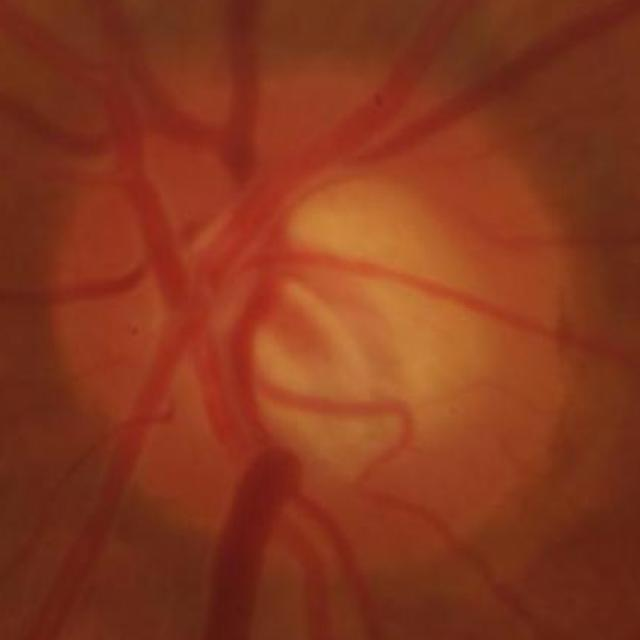OC: (194, 174, 482, 468)
OD: (39, 48, 571, 581)
